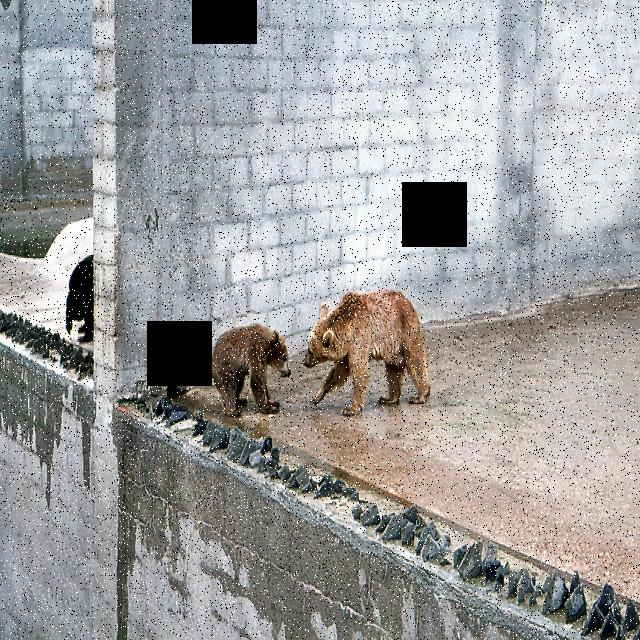Bear: (300, 284, 433, 416), (210, 314, 292, 409)
